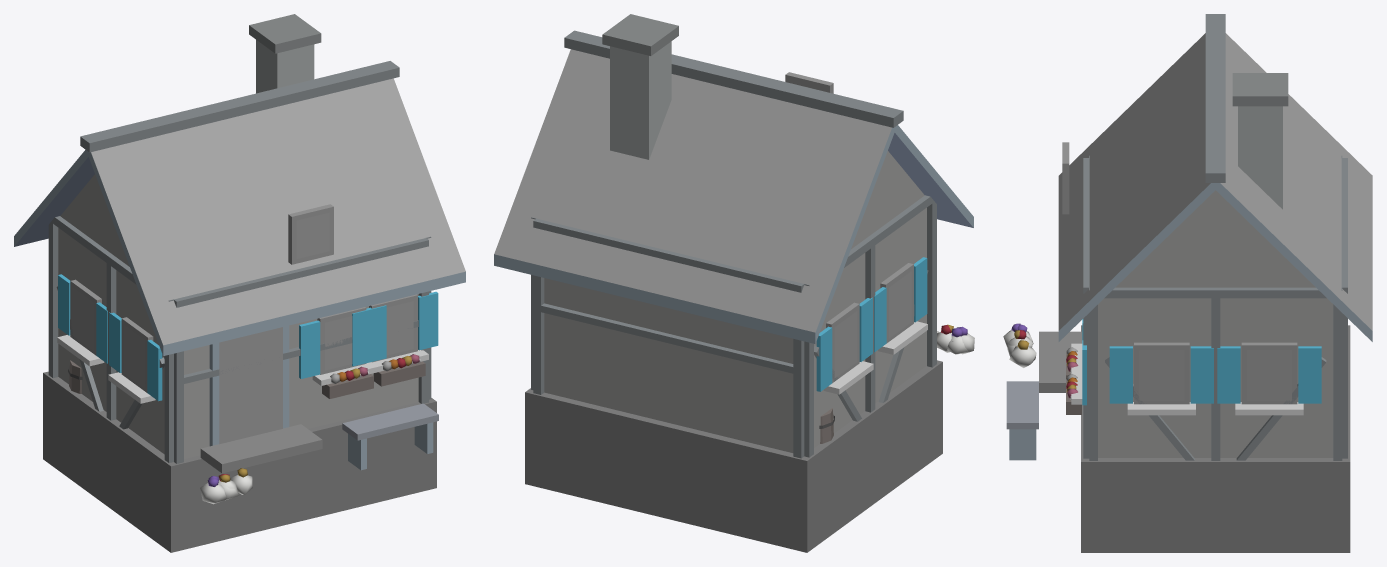
File: house_a.glb
The picture shows the model from 3 angles, left to right: view 1: azimuth 30°, elevation 25°; view 2: azimuth 150°, elevation 25°; view 3: azimuth 270°, elevation 25°; orthographic projection. The views are drawn at different scales.
Parts seen in each view (by area): view 1: house_a; view 2: house_a; view 3: house_a.
Boxes of the visible parts, x1=… form: house_a: x1=14, y1=14, x2=465, y2=552; house_a: x1=494, y1=14, x2=974, y2=552; house_a: x1=1003, y1=14, x2=1372, y2=552.
Bounding box in the file's own units: 4.2 × 5.34 × 4.12.
